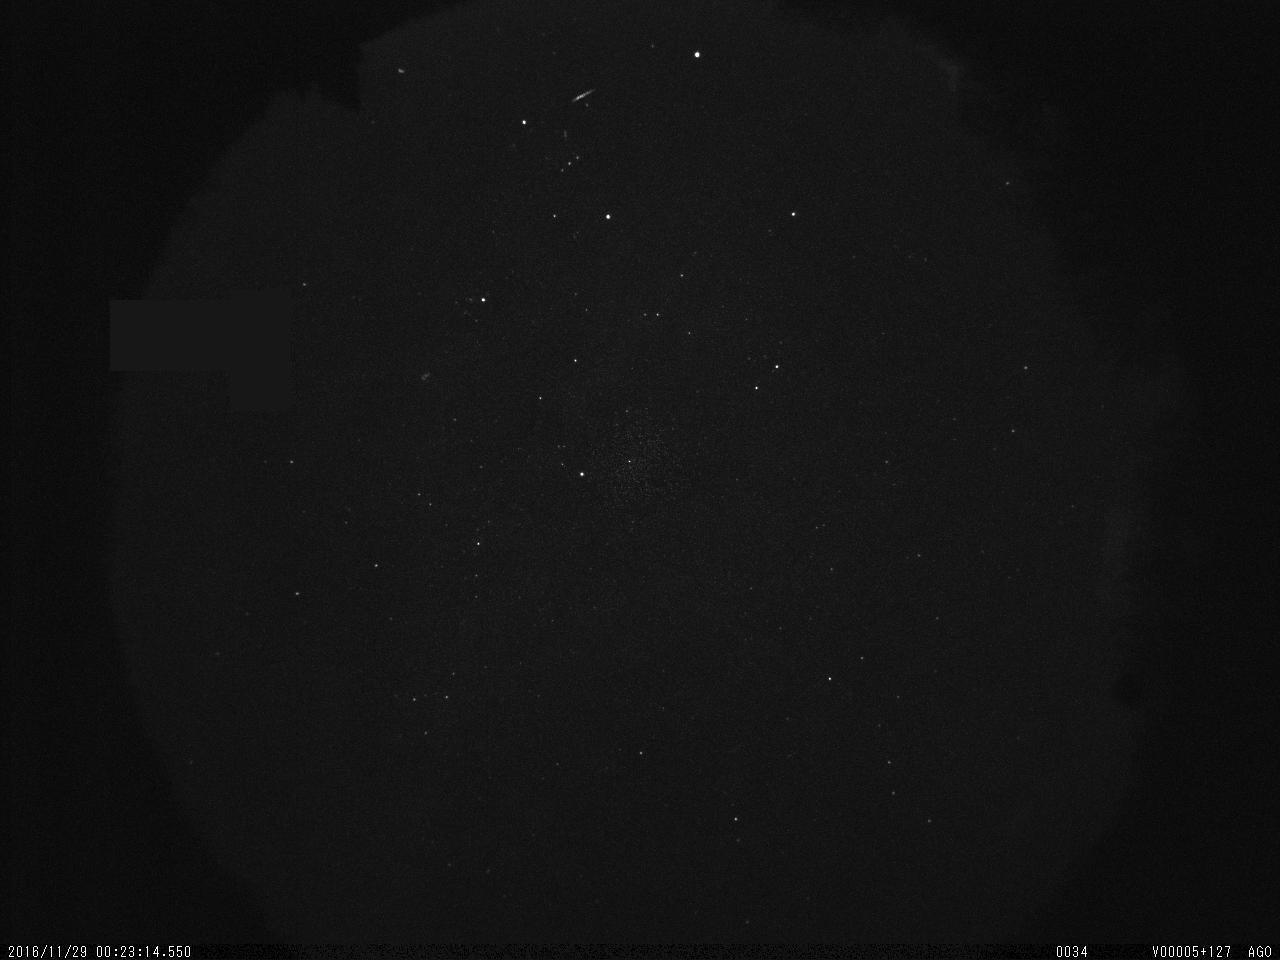meteor: (564, 82, 597, 111)
